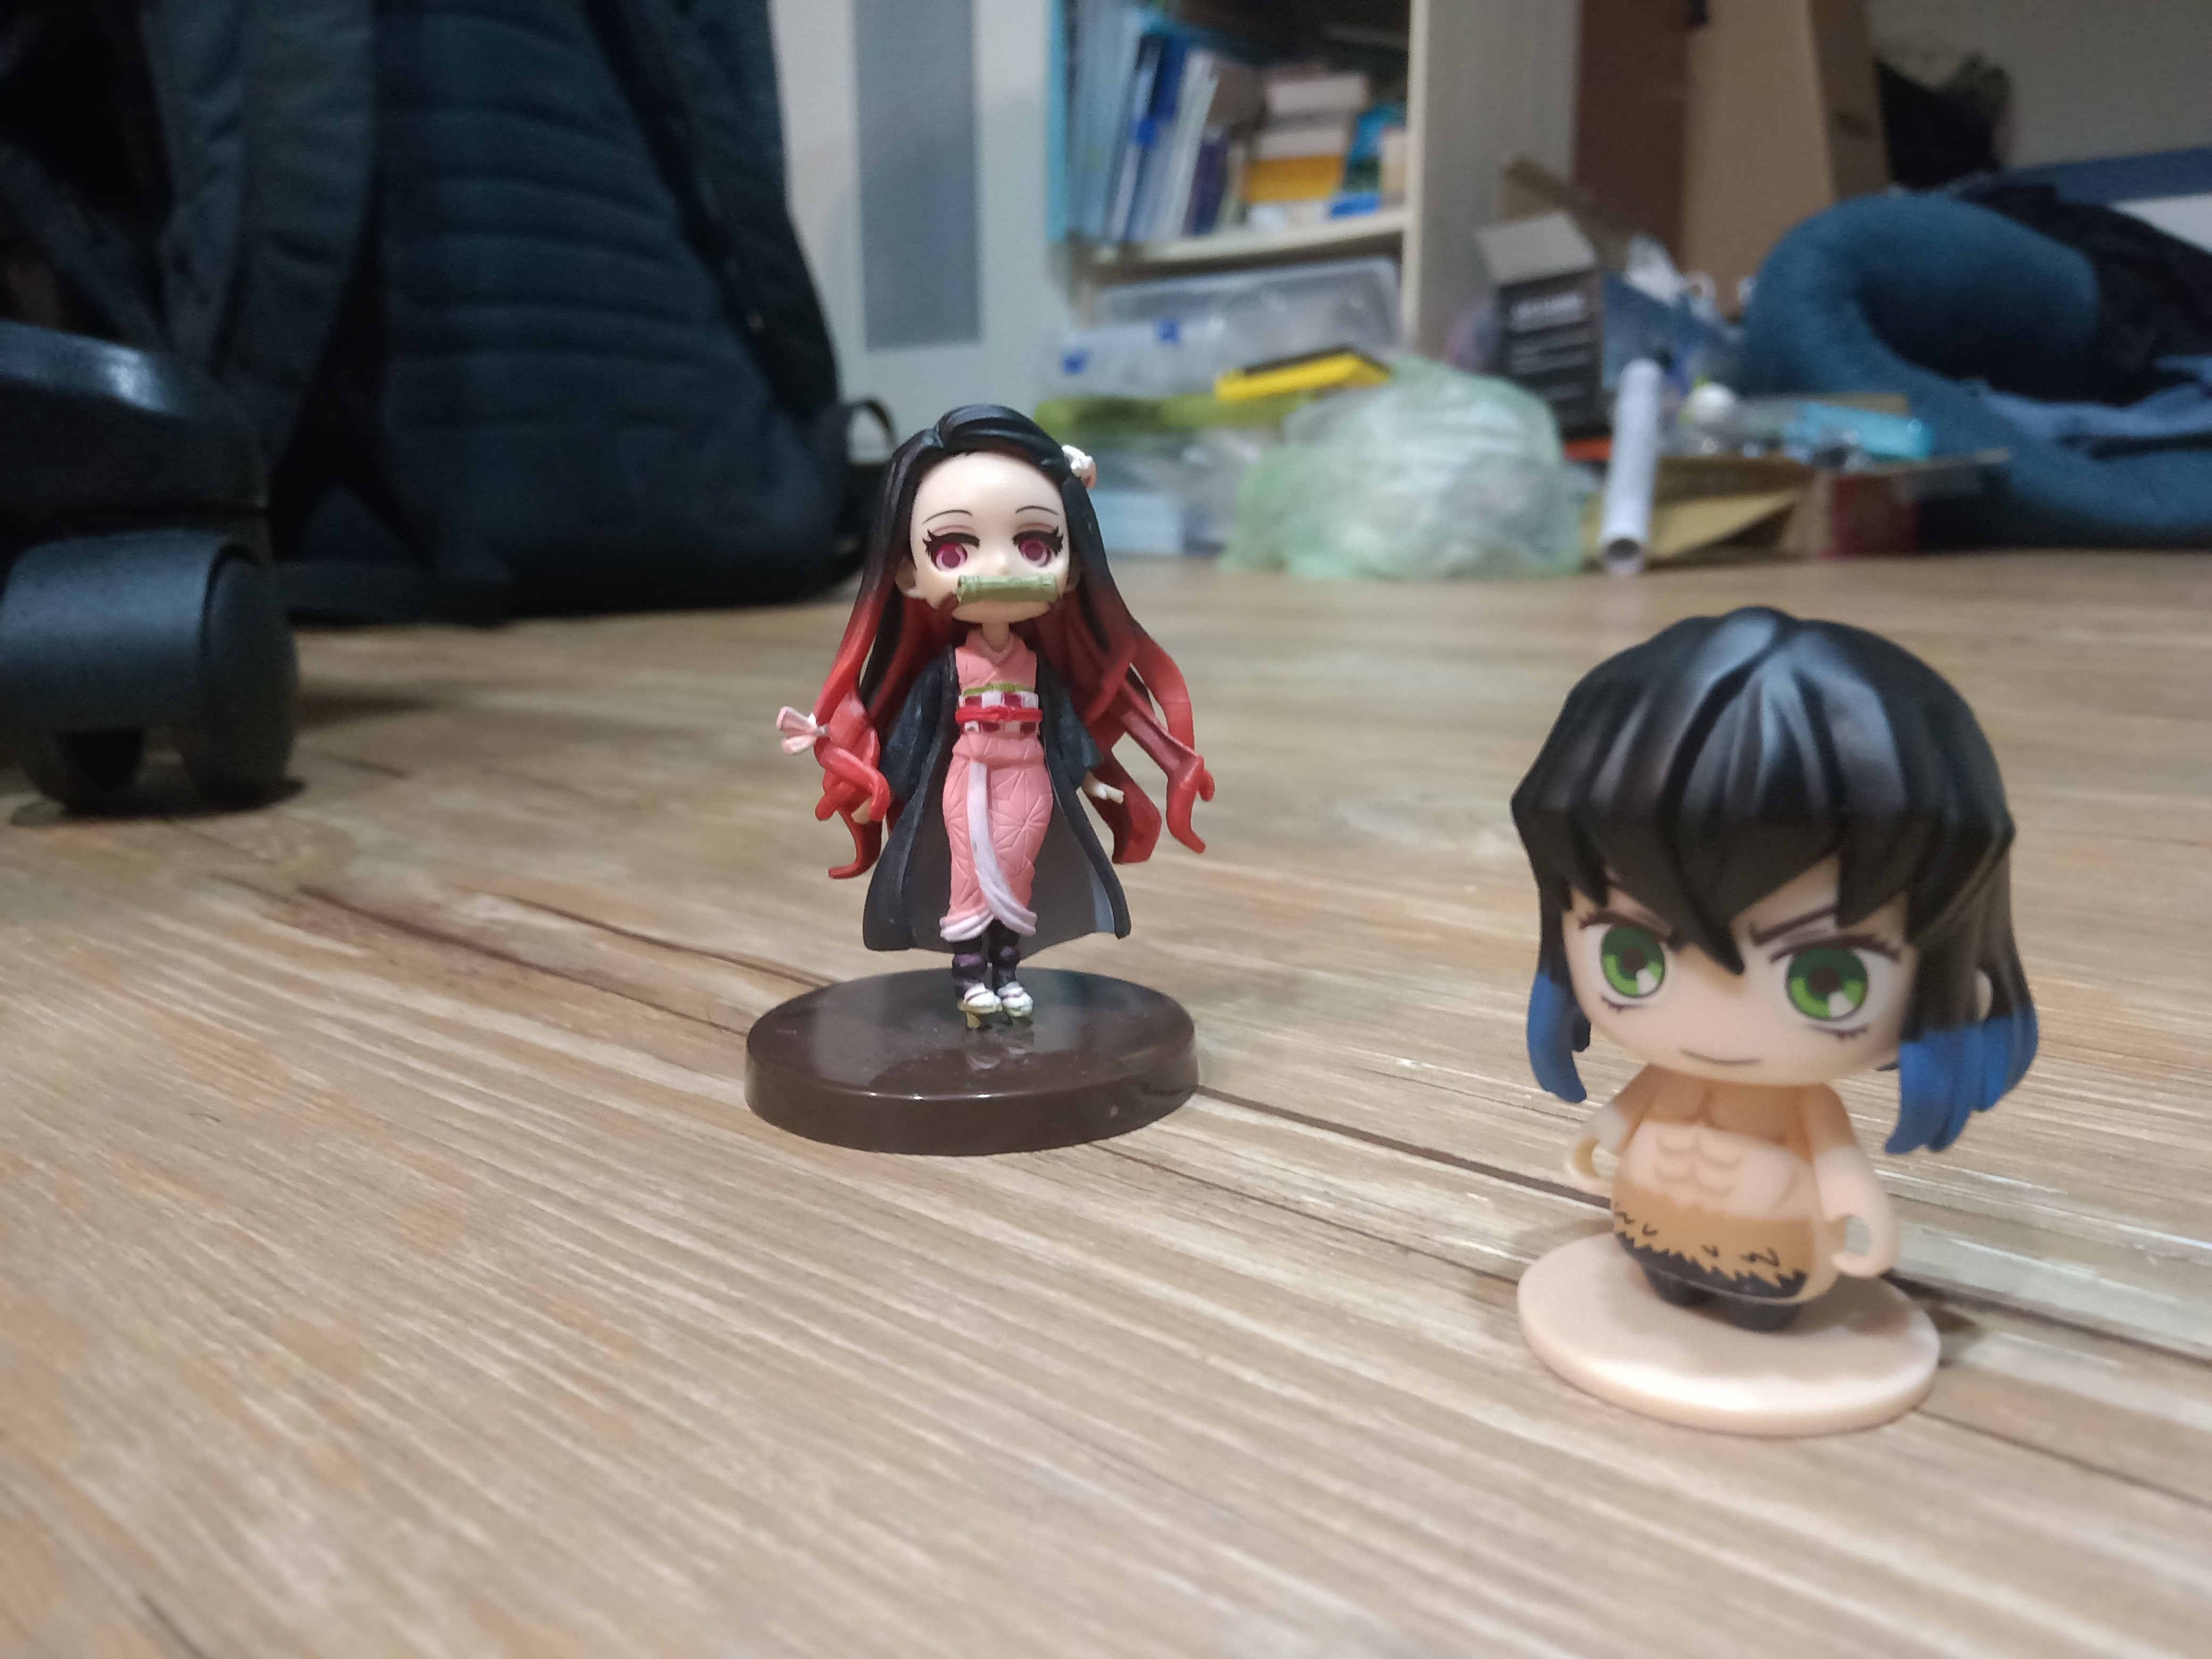Inosuke: (1480, 596, 2054, 1459)
Nezuko: (730, 394, 1233, 1164)
